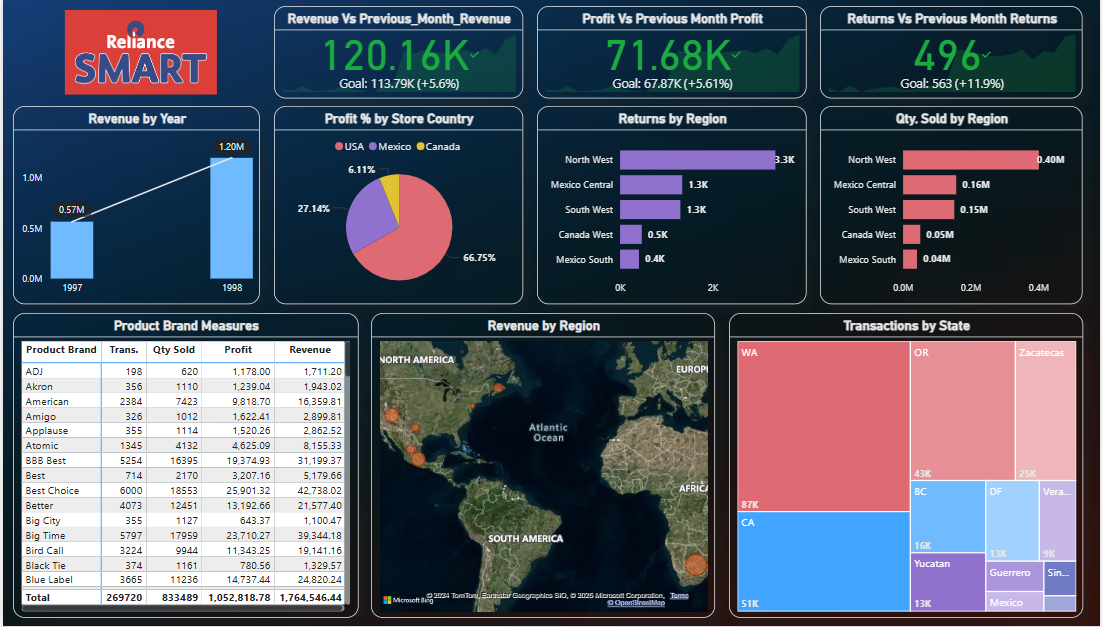

What the dashboard file says about the page in this screenshot:
{"tool":"powerbi","page":{"name":"Sales Report","canvas":[1400,800],"ordinal":1},"visuals":[{"type":"image","box":[22.8,8.9,305.1,117.7],"z":0},{"type":"pivotTable","title":"Product Brand Measures","fields":{"Rows":["dim_Products.product_brand"],"Values":["Measures..M_Total_Transactions","Measures..M_Qty_Sold","Measures..M_Total_Profit","Measures..M_Total_Revenue"]},"box":[12.7,400,440.5,388.6],"z":1000},{"type":"map","title":"Revenue by Region","fields":{"Category":["dim_Regions.sales_region"],"Size":["Measures..M_Total_Revenue"]},"box":[469.6,400,439.2,388.6],"z":2000},{"type":"treemap","title":"Transactions by State","fields":{"Group":["dim_Customers.customer_state_province"],"Values":["Measures..M_Total_Transactions"]},"box":[926.6,400,451.9,388.6],"z":3000},{"type":"lineClusteredColumnComboChart","title":"Revenue by Year","fields":{"Category":["dim_Calendar.Year"],"Y":["Measures..M_Total_Revenue"]},"box":[12.7,136.7,315.2,253.2],"z":4000},{"type":"pieChart","title":"Profit % by Store Country","fields":{"Category":["dim_Stores.store_country"],"Y":["Measures..M_Total_Profit"]},"box":[345.6,136.7,317.7,253.2],"z":5000},{"type":"barChart","title":"Qty. Sold by Region","fields":{"Y":["Measures..M_Qty_Sold"],"Category":["dim_Regions.sales_region"]},"box":[1043,136.7,335.4,253.2],"z":6000},{"type":"barChart","title":"Returns by Region","fields":{"Y":["Measures..M_Total_Returns"],"Category":["dim_Regions.sales_region"]},"box":[681,136.7,344.3,253.2],"z":7000},{"type":"kpi","title":"Revenue Vs Previous_Month_Revenue","fields":{"Indicator":["Measures..M_Total_Revenue"],"Goal":["Measures..M_Previous_Month_Revenue"],"TrendLine":["dim_Calendar.Start of Month"]},"box":[345.6,8.9,317.7,117.7],"z":8000},{"type":"kpi","title":"Profit Vs Previous Month Profit","fields":{"TrendLine":["dim_Calendar.Start of Month"],"Indicator":["Measures..M_Total_Profit"],"Goal":["Measures..M_Previous_Month_Profit"]},"box":[681,8.9,344.3,117.7],"z":9000},{"type":"kpi","title":"Returns Vs Previous Month Returns","fields":{"TrendLine":["dim_Calendar.Start of Month"],"Indicator":["Measures..M_Total_Returns"],"Goal":["Measures..M_Previous_Month_Returns"]},"box":[1043,8.9,335.4,117.7],"z":10000}]}

Visuals, with their boxes in screenshot pixels (x1, y1, x2, y2), scaled from the page's 1400x800 canvas onto the 1102x627 screenshot:
image: (x1=18, y1=7, x2=258, y2=99)
"Product Brand Measures" pivotTable: (x1=10, y1=314, x2=357, y2=618)
"Revenue by Region" map: (x1=370, y1=314, x2=715, y2=618)
"Transactions by State" treemap: (x1=729, y1=314, x2=1085, y2=618)
"Revenue by Year" lineClusteredColumnComboChart: (x1=10, y1=107, x2=258, y2=306)
"Profit % by Store Country" pieChart: (x1=272, y1=107, x2=522, y2=306)
"Qty. Sold by Region" barChart: (x1=821, y1=107, x2=1085, y2=306)
"Returns by Region" barChart: (x1=536, y1=107, x2=807, y2=306)
"Revenue Vs Previous_Month_Revenue" kpi: (x1=272, y1=7, x2=522, y2=99)
"Profit Vs Previous Month Profit" kpi: (x1=536, y1=7, x2=807, y2=99)
"Returns Vs Previous Month Returns" kpi: (x1=821, y1=7, x2=1085, y2=99)
